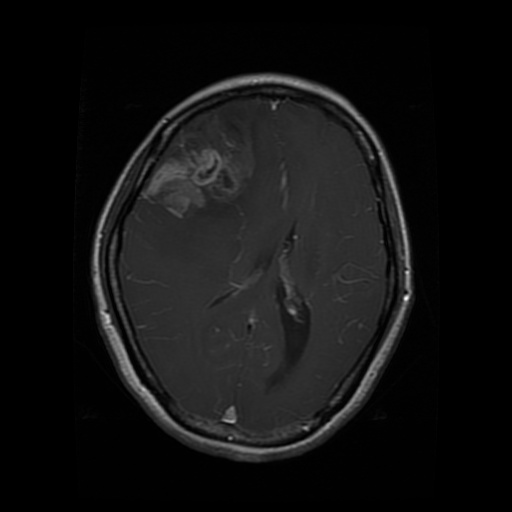glioma: (142, 101, 255, 219)
